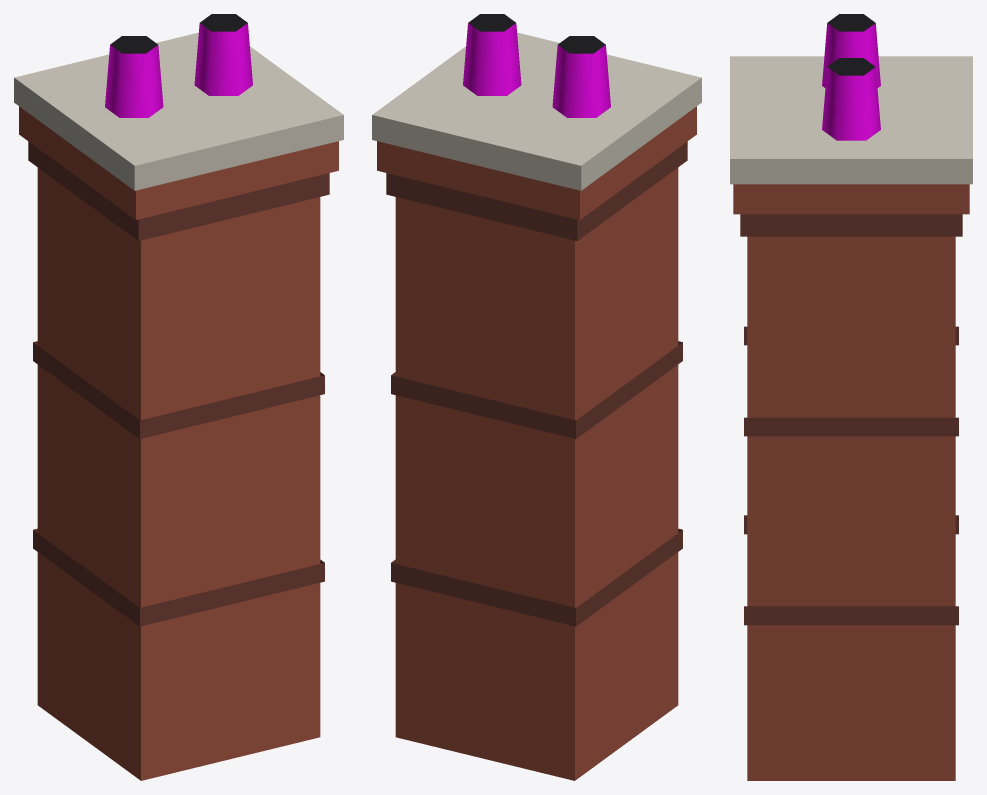
Rendered from house_chimney.glb.
The picture shows the model from 3 angles, left to right: view 1: azimuth 30°, elevation 25°; view 2: azimuth 150°, elevation 25°; view 3: azimuth 270°, elevation 25°; orthographic projection.
Visible parts, largest first — view 1: house_chimney__mesh; view 2: house_chimney__mesh; view 3: house_chimney__mesh.
Boxes of the visible parts, left/top/right/bottom form: house_chimney__mesh: left=14, top=14, right=343, bottom=780; house_chimney__mesh: left=372, top=14, right=701, bottom=780; house_chimney__mesh: left=730, top=14, right=972, bottom=780.
Bounding box in the file's own units: 0.7 × 2.2 × 0.7.
1 material, 1 textured.
